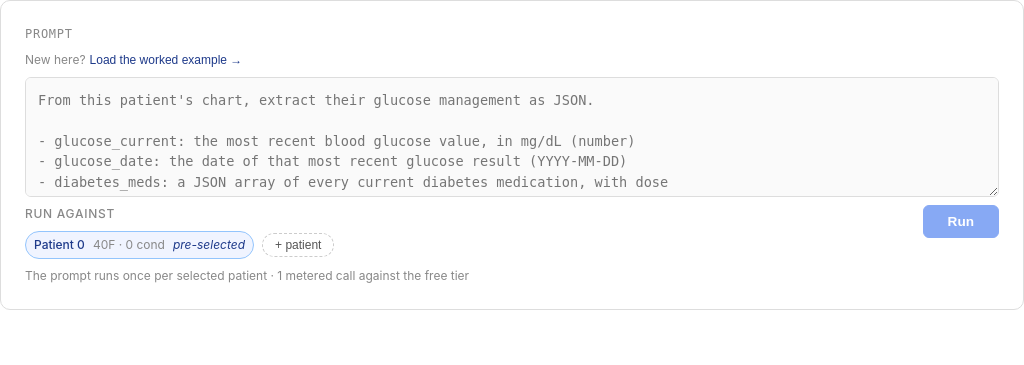
Test: PromptCell (N8a) › the "+" picker adds another patient
Click the button with test id "add-patient" at {"x": 298, "y": 245}, box [262, 233, 334, 257]
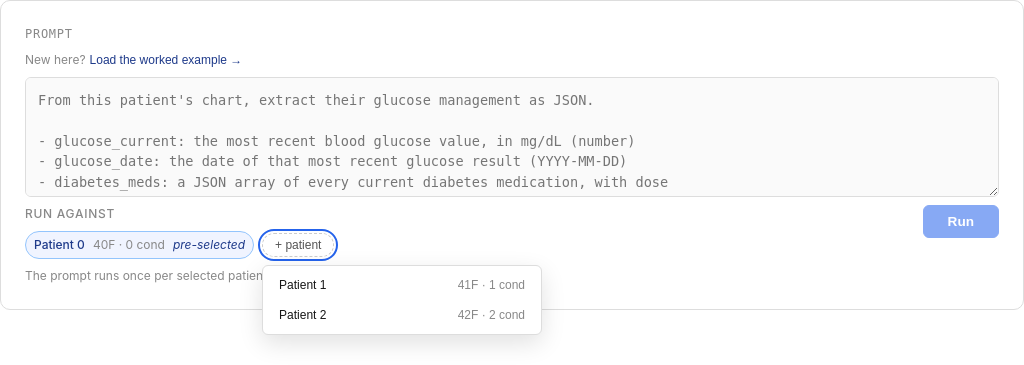
Click the button with test id "add-patient-row" showing "Patient 1 41F · 1 cond" at {"x": 303, "y": 285}, box [267, 270, 537, 300]
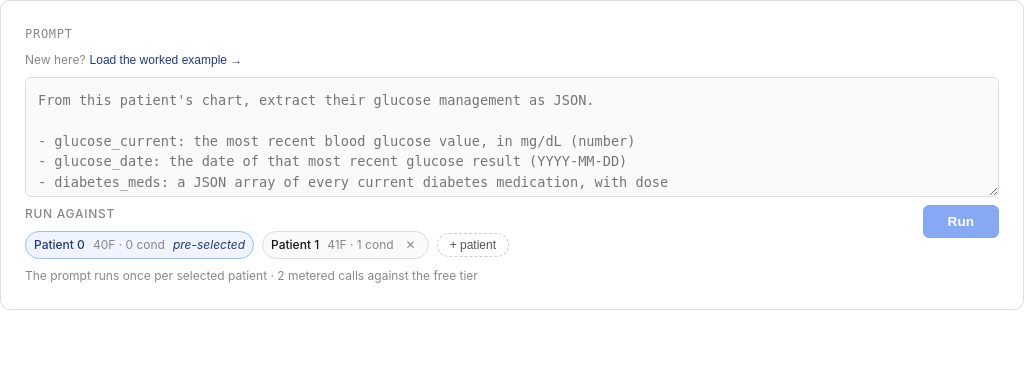
Check: the number of elements with test id "run-chip" is 2, box [25, 231, 254, 259]; [262, 231, 429, 259]
